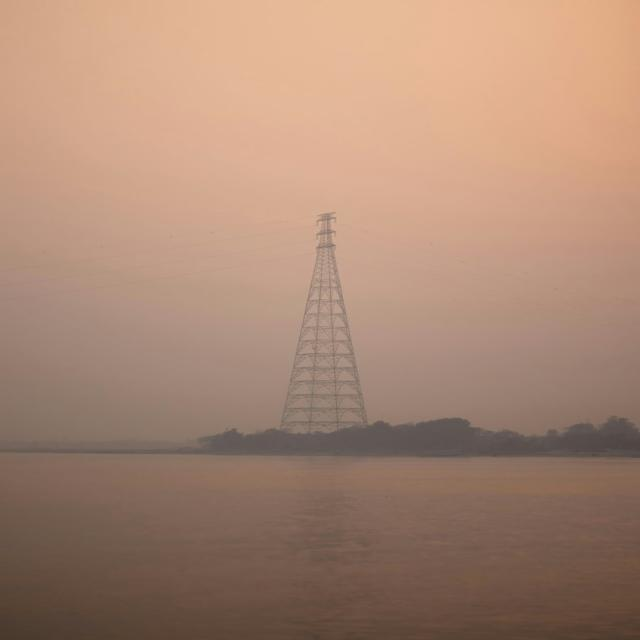transmission tower: (168, 171, 486, 484)
